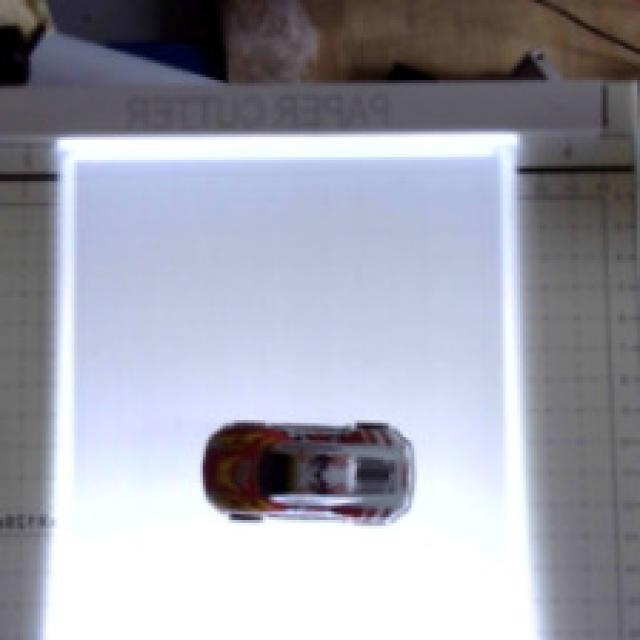Red Car: (170, 369, 432, 597)
